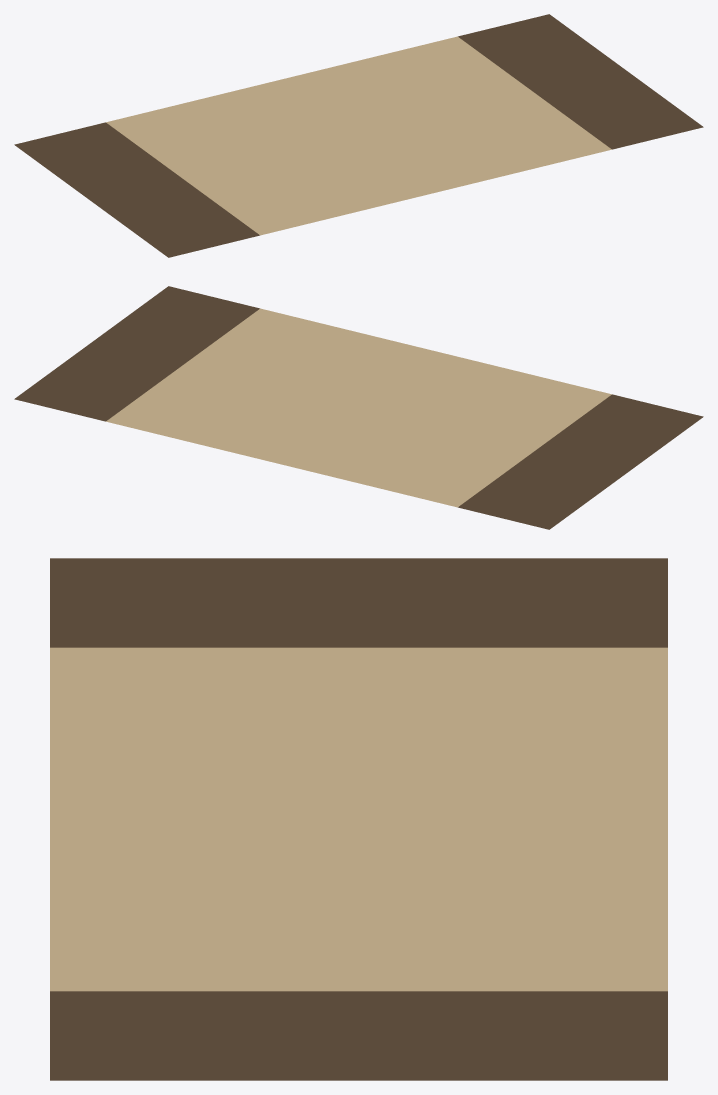
File: M_FloorCross700x350Beige100-4.fbx
The picture shows the model from 3 angles, top to bottom: view 1: azimuth 30°, elevation 25°; view 2: azimuth 150°, elevation 25°; view 3: azimuth 270°, elevation 25°; orthographic projection. The views are drawn at different scales.
Visible parts, largest first — view 1: M_FloorCross700x350Beige100-4; view 2: M_FloorCross700x350Beige100-4; view 3: M_FloorCross700x350Beige100-4.
Boxes of the visible parts, x1,y1,x2,y2 form: M_FloorCross700x350Beige100-4: [14, 14, 703, 257]; M_FloorCross700x350Beige100-4: [14, 286, 703, 529]; M_FloorCross700x350Beige100-4: [50, 558, 667, 1080].
Bounding box in the file's own units: 700 × 350 × 3.26e-22.
